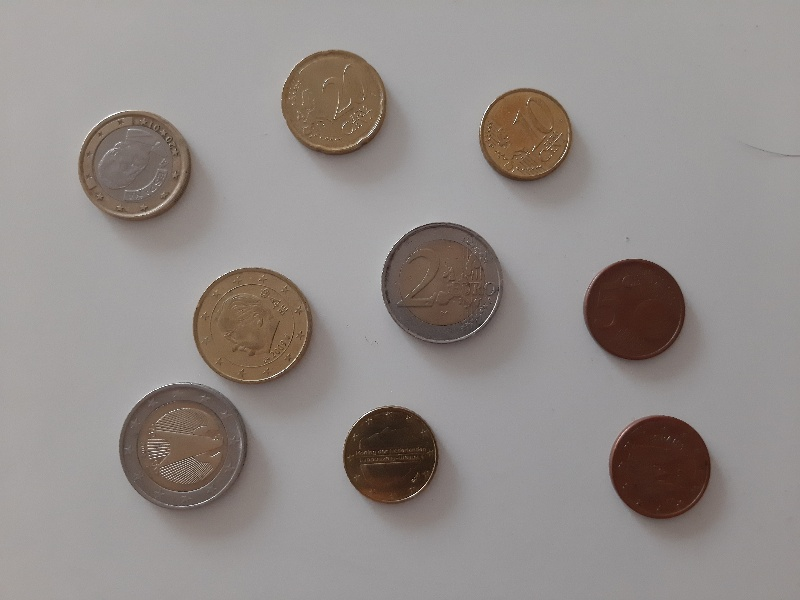1 euro: (74, 108, 195, 224)
10 cent: (341, 404, 441, 507), (479, 86, 574, 183)
2 euro: (113, 380, 249, 514), (379, 218, 504, 347)
20 cent: (279, 48, 390, 156)
5 cent: (606, 412, 713, 521), (581, 259, 688, 362)
50 cent: (191, 264, 313, 386)
